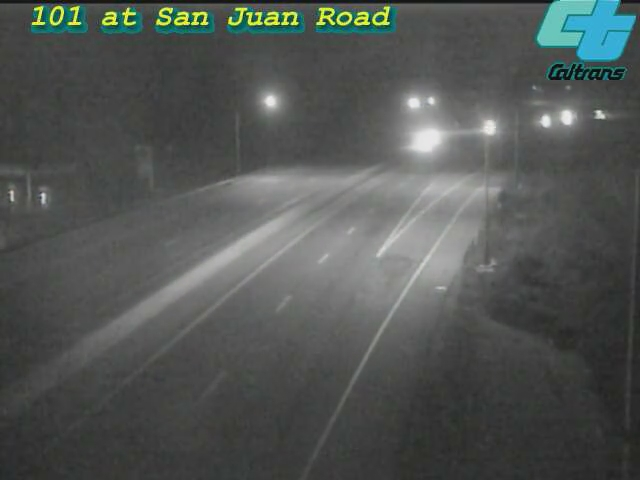vehicle: (576, 90, 626, 140), (401, 116, 451, 166), (461, 103, 511, 153), (523, 94, 573, 144), (540, 93, 590, 143)
